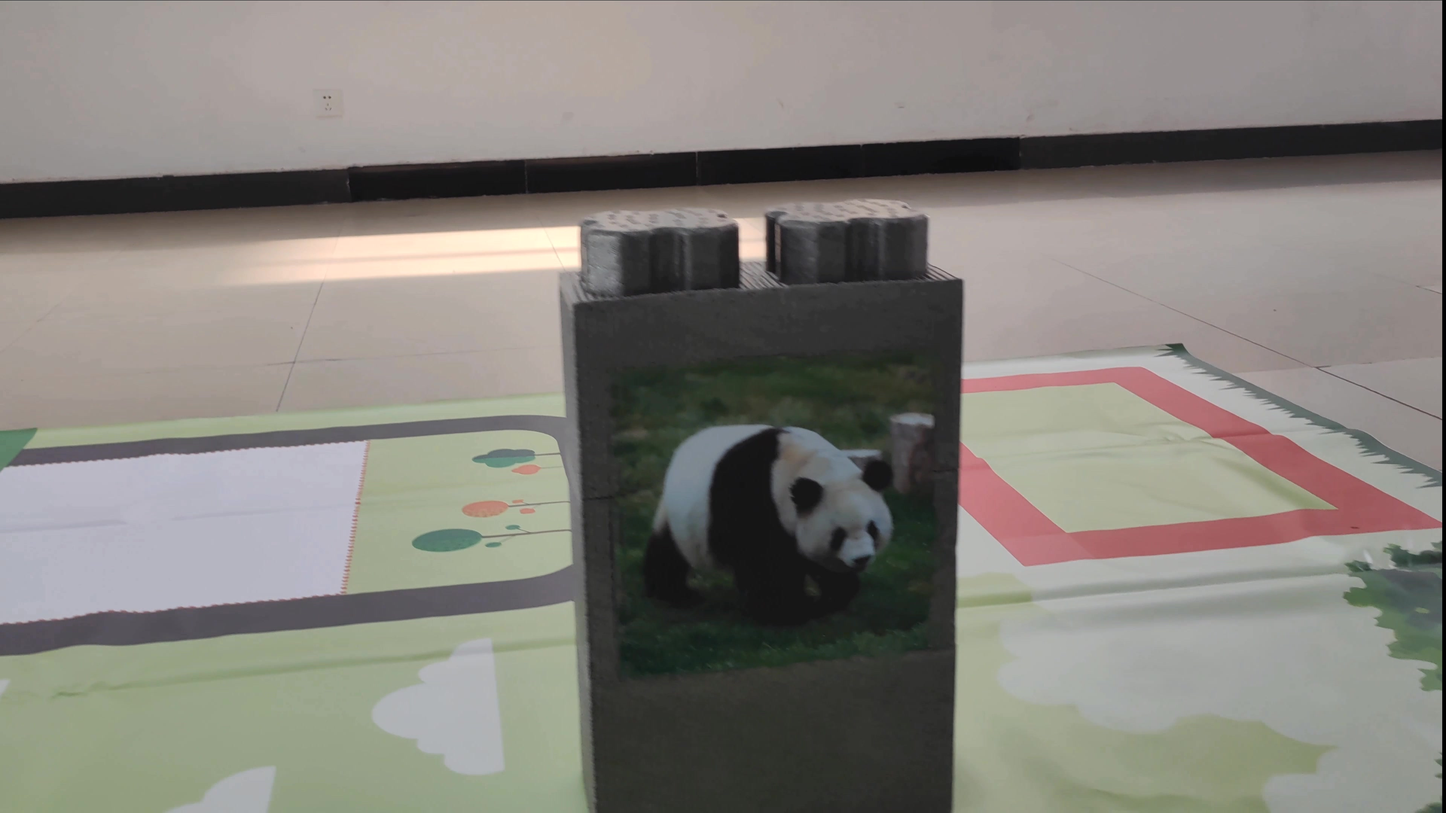panda: (615, 402, 900, 623)
